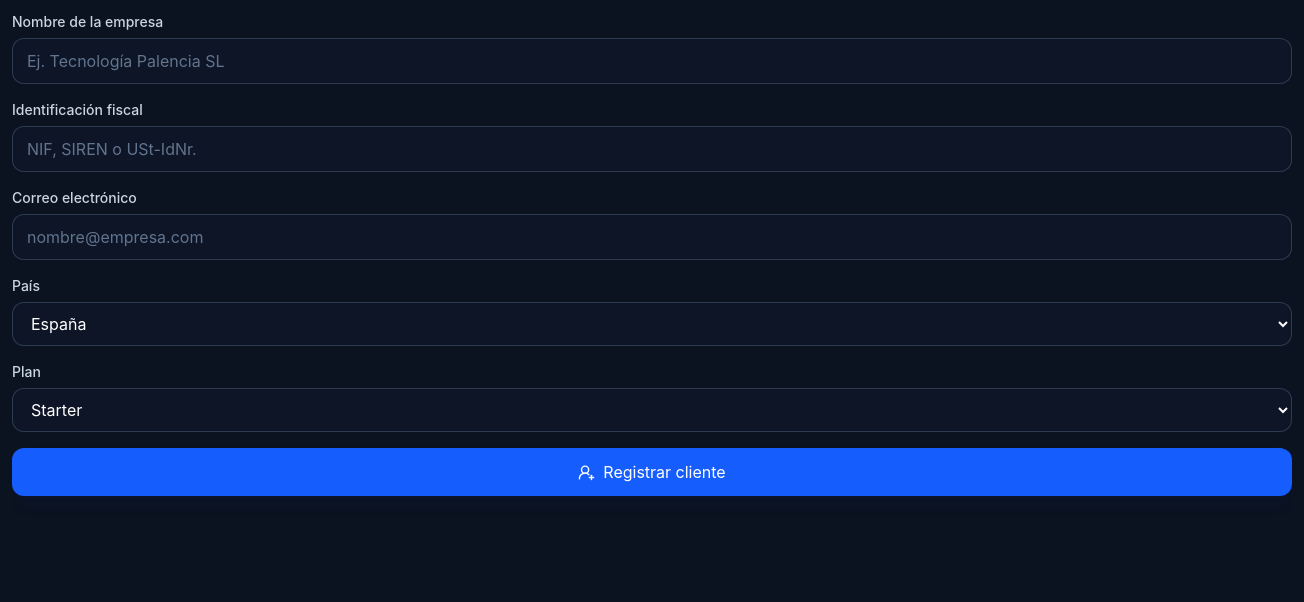
Test: CustomerForm validation feedback › identifies an invalid email field
Type "Empresa de prueba" into the field labelled "Nombre de la empresa" at (652,61), box [12,38,1292,84]
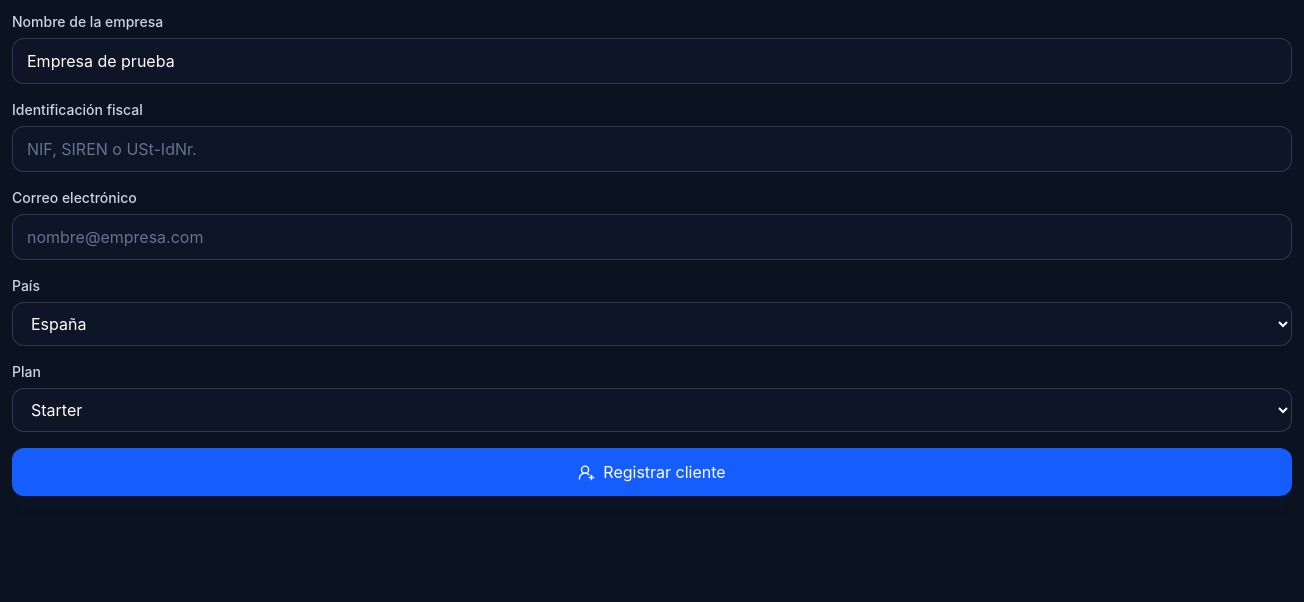
Type "12345678Z" into the field labelled "Identificación fiscal" at (652,149), box [12,126,1292,172]
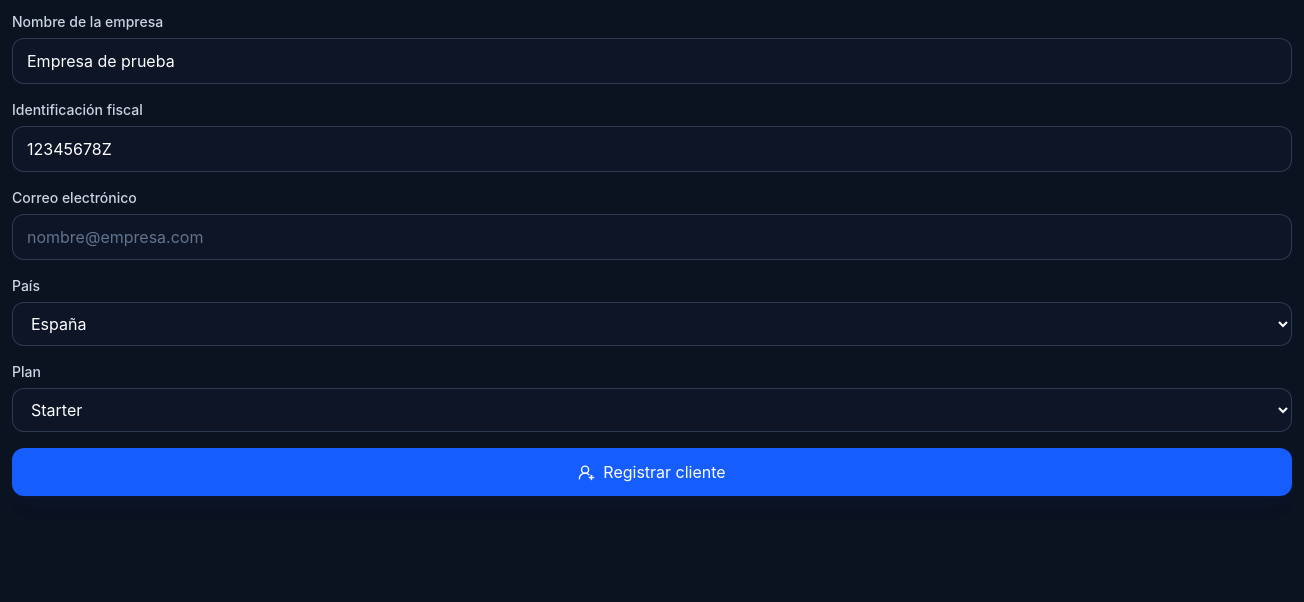
Type "contacto@empresa.test" into the field labelled "Correo electrónico" at (652,237), box [12,214,1292,260]
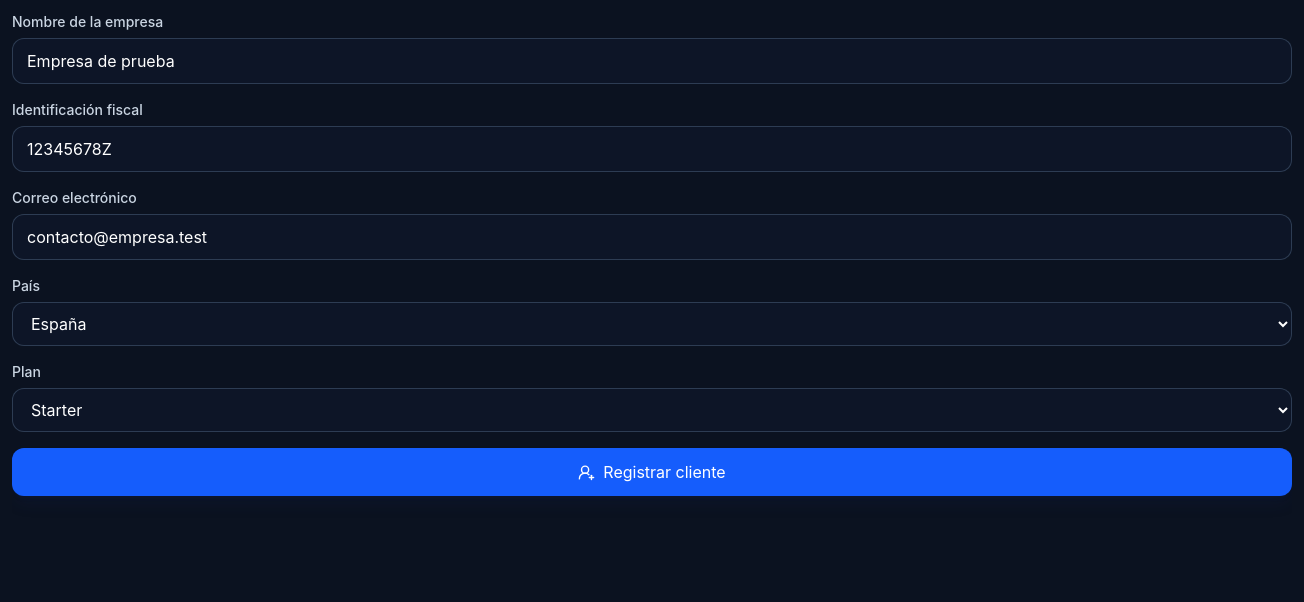
Select "España" in the dropdown labelled "País" at (652,324), box [12,302,1292,346]
Submit the form named "Registrar cliente"
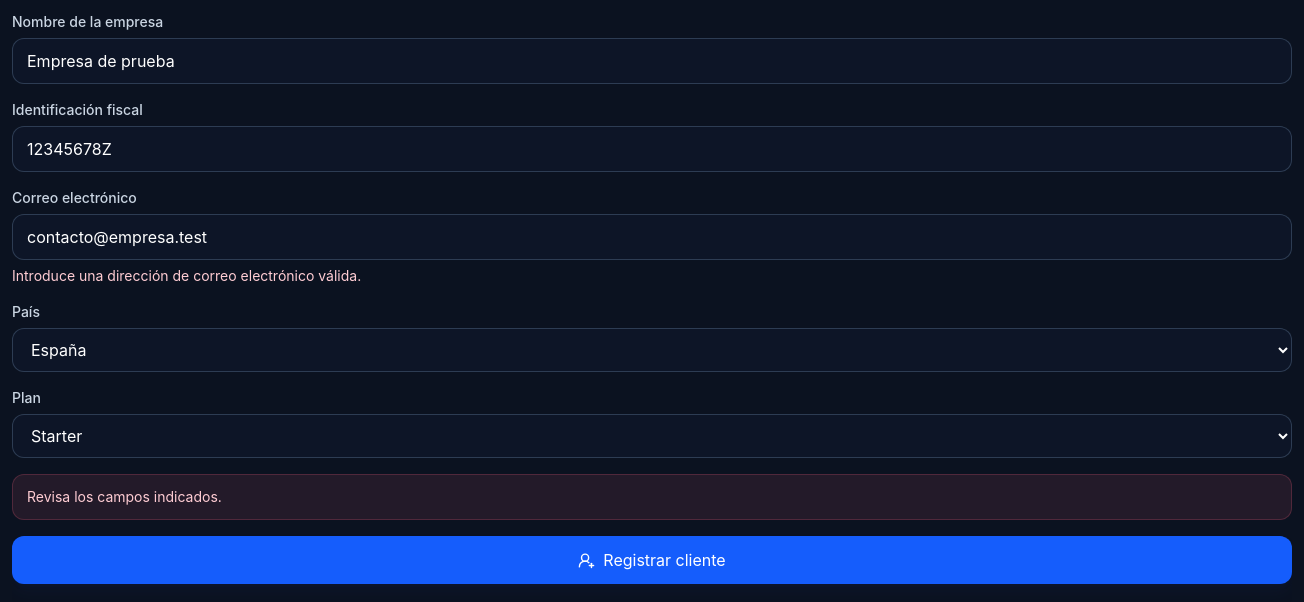
Expected: the text "Introduce una dirección de correo electrónico válida." is shown, [12,267,361,284]
Expected: the message reads "Revisa los campos indicados.", [27,488,222,505]
